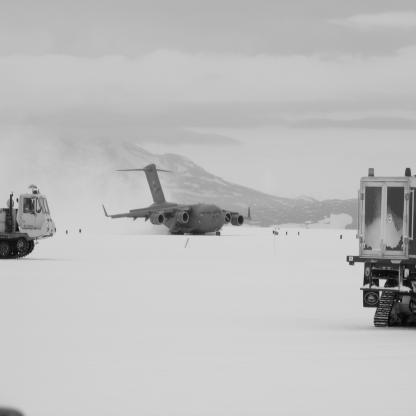C17: (103, 164, 253, 236)
